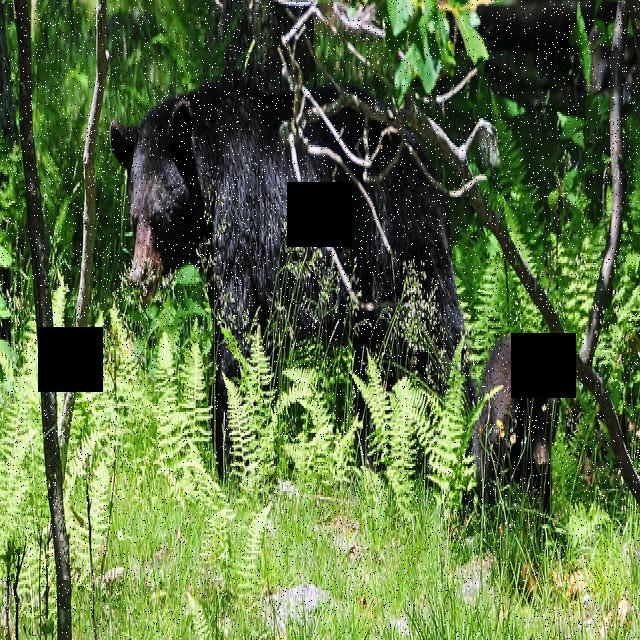Bear: (105, 79, 491, 502), (468, 332, 564, 570)
